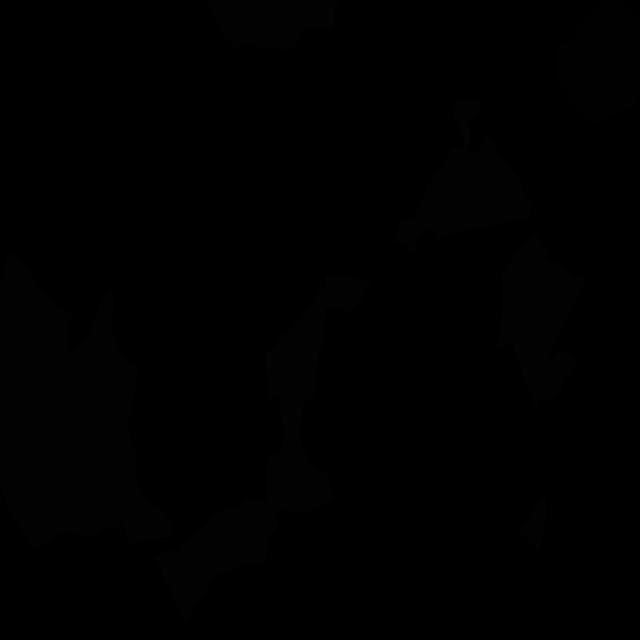cardboard: (0, 287, 175, 550), (265, 275, 372, 534), (395, 97, 532, 253), (156, 498, 271, 623), (497, 231, 587, 387), (0, 253, 75, 401), (206, 0, 339, 52), (527, 350, 578, 410), (518, 496, 547, 550)
rigid_plastic: (556, 0, 640, 125)
